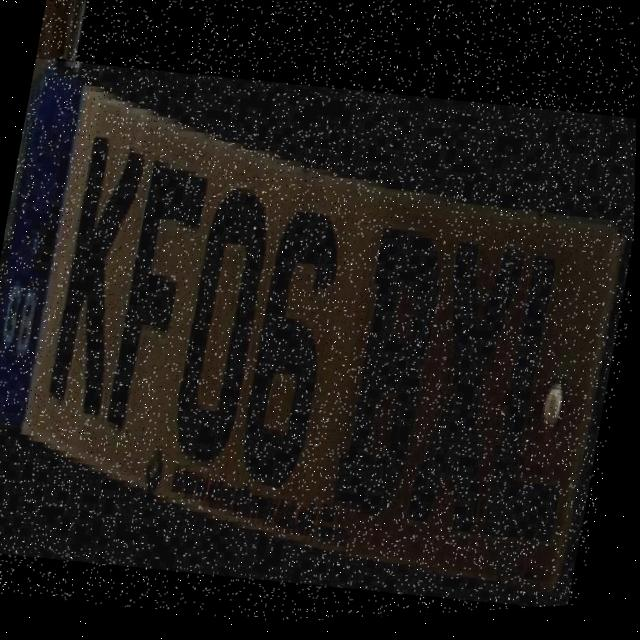LicensePlate: (0, 30, 639, 640)
